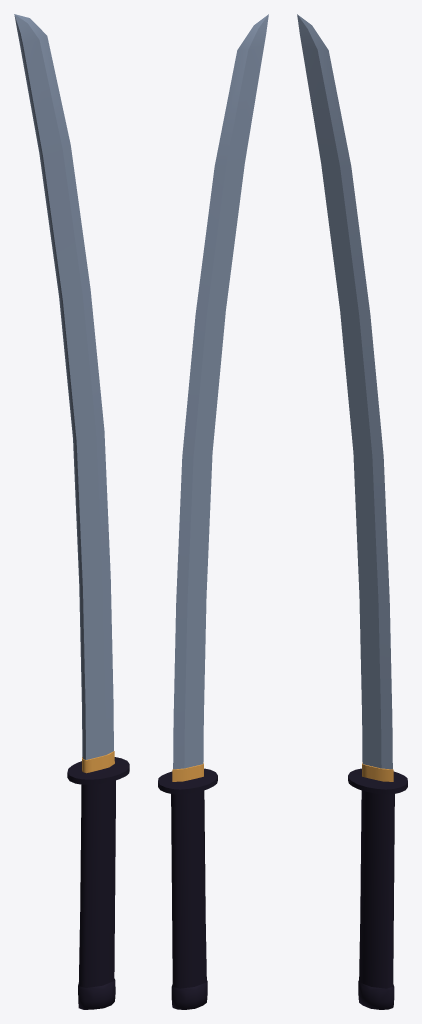
The model's file is Katana.fbx.
3 renders of one model, left to right at view 1: azimuth 30°, elevation 25°; view 2: azimuth 210°, elevation 25°; view 3: azimuth 330°, elevation 25°, orthographic. The views are drawn at different scales.
Parts seen in each view (by area): view 1: BasicSword; view 2: BasicSword; view 3: BasicSword.
Boxes of the visible parts, <box> form: BasicSword: <box>14,14,129,1009</box>; BasicSword: <box>158,14,268,1009</box>; BasicSword: <box>297,14,407,1009</box>.
Size of the model in its own units: 12.31 by 105 by 4.54.
